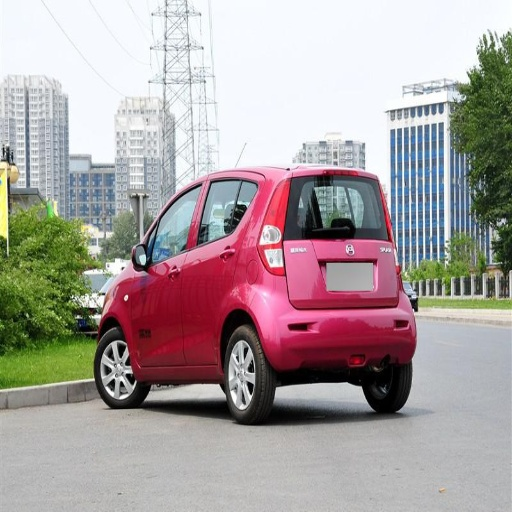back_bumper: (257, 277, 414, 371)
back_glass: (289, 178, 374, 228)
back_left_door: (183, 177, 248, 364)
trunk: (267, 214, 399, 324)
